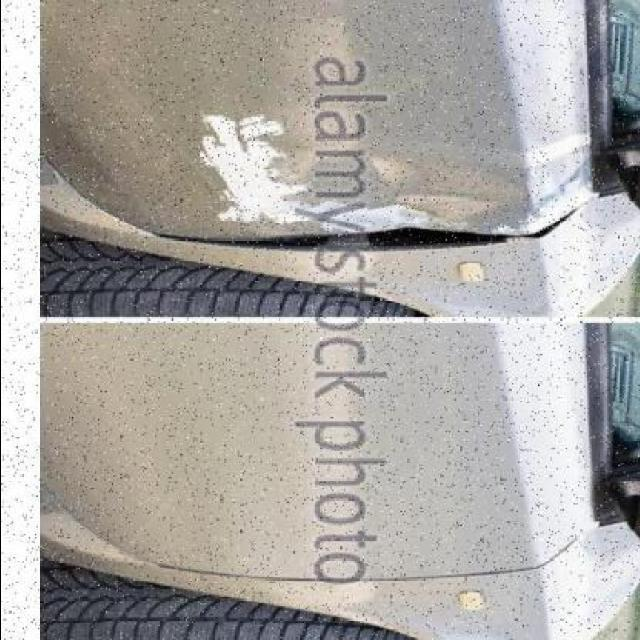doorouter-dent: (36, 9, 582, 240)
